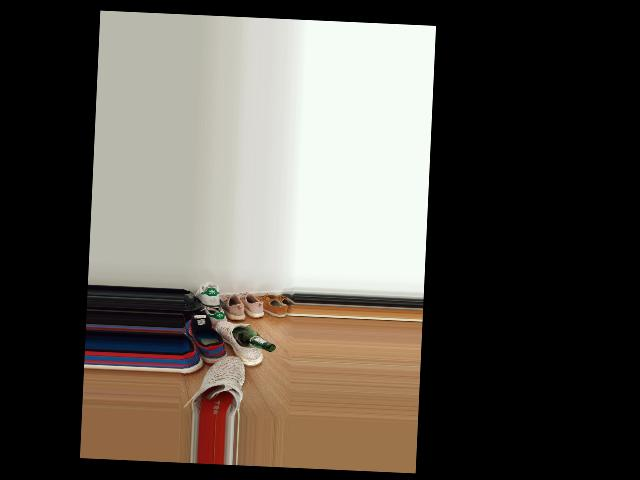beer: (231, 326, 276, 352)
